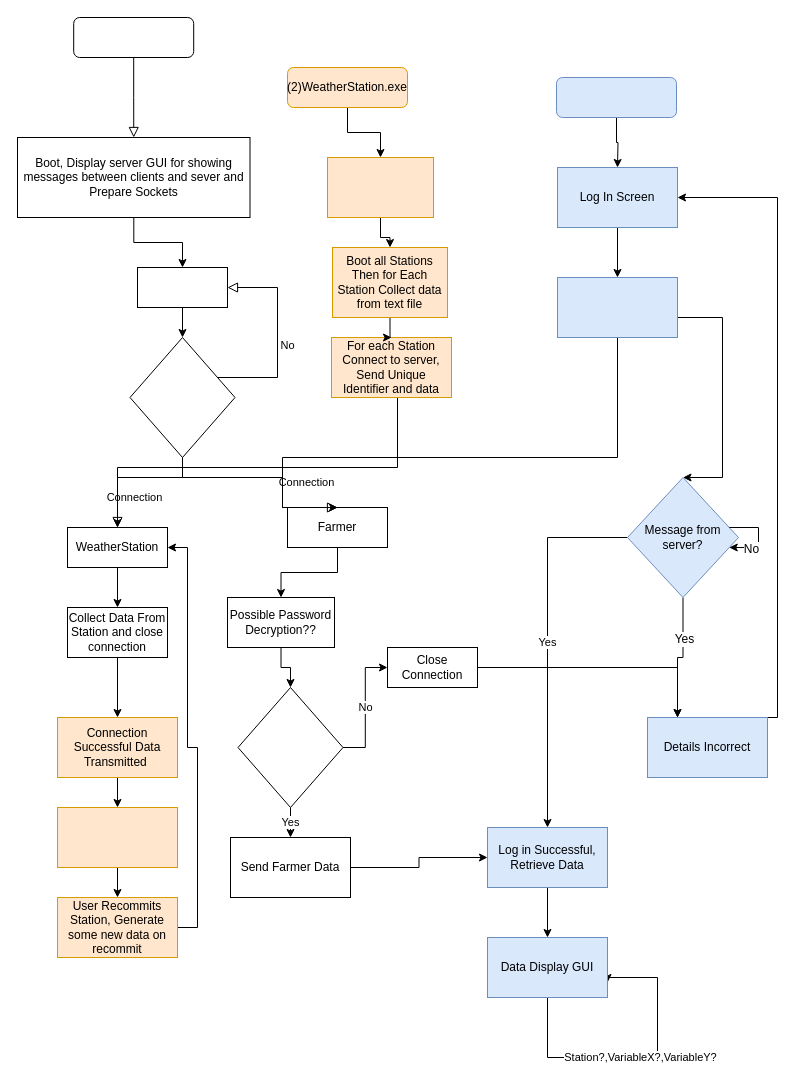
This 803x1083 diagram has some shape labels left out. The centre of each missing label's shape, as x and y in pixels:
(1)Server.exe: (133,37)
(3)Farmer.exe: (616,97)
Await Connection: (182,287)
Connection?, Framer or Weather Station: (182,397)
Generate data through random and put into text files: (380,187)
Log In details in Text file?: (290,747)
Send identifier and log in information: (617,307)
Show GUI for Recommits: (117,837)
